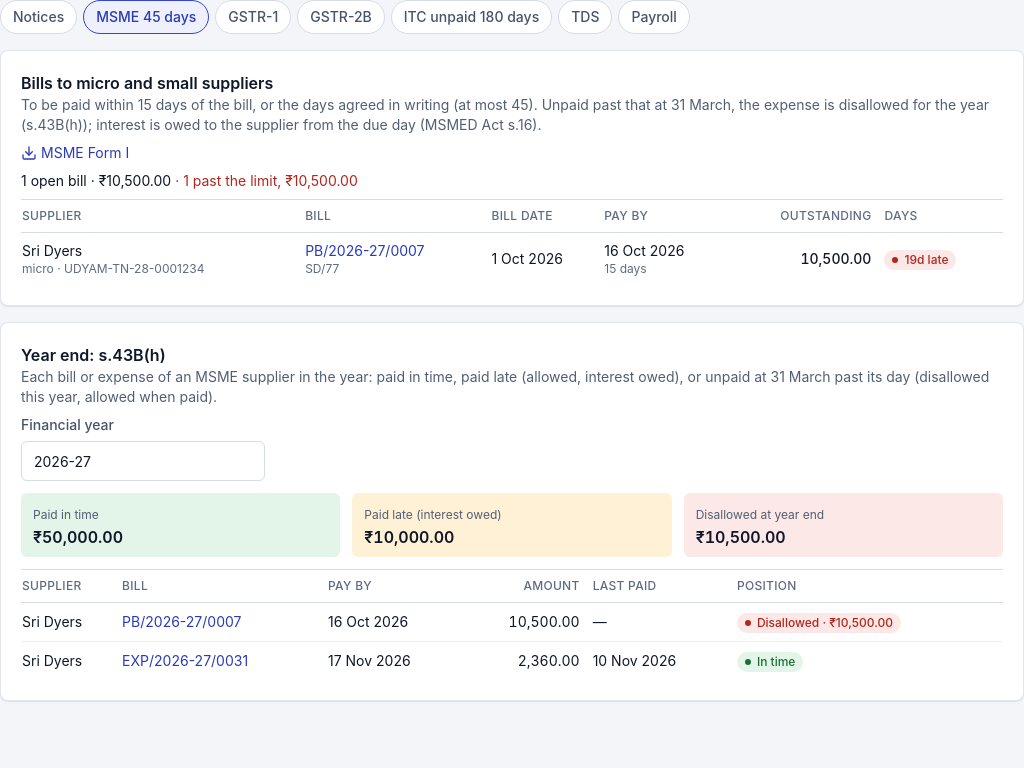
it: TDS and payroll on the statutory tab › totals the payroll month and posts the salary journal
What coordinates should you click on to do the following:
click the button "Payroll"
I would click on:
 (654, 17)
Its box is [618,0,690,34].
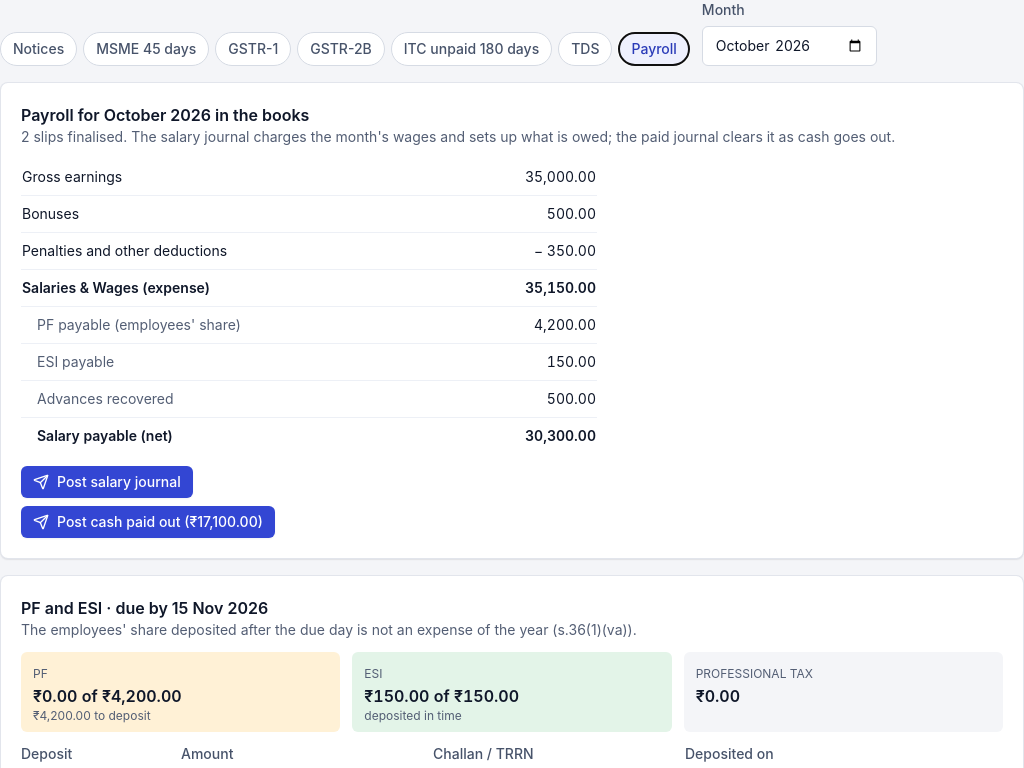
Result: the text "Salaries & Wages (expense)" shows "35,150.00" at [525,279,596,296]
Result: the text "Salary payable (net)" shows "30,300.00" at [525,427,596,444]
Result: the heading "PF and ESI · due by 15 Nov 2026" is shown at [21,598,268,618]
What coordinates should you click on to do the following:
click the button "Post salary journal"
I would click on:
 (107, 482)
Its box is [21,466,193,498].
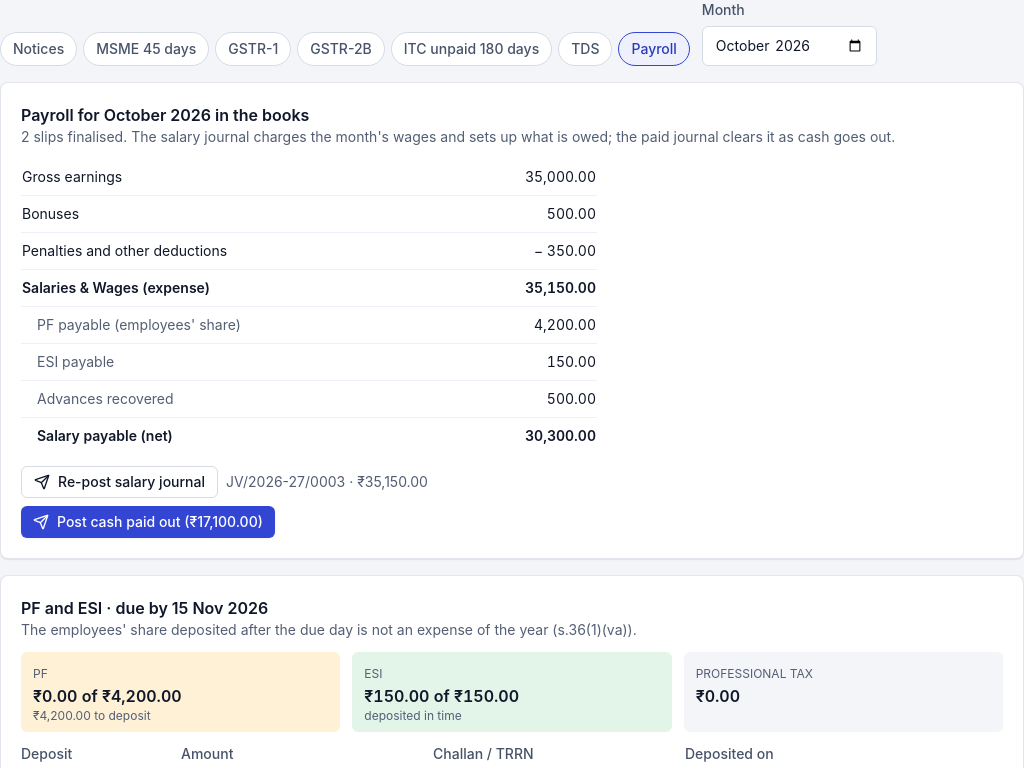
Result: the text "JV/2026-27/0003 · ₹35,150.00" is shown at [226,472,428,492]
